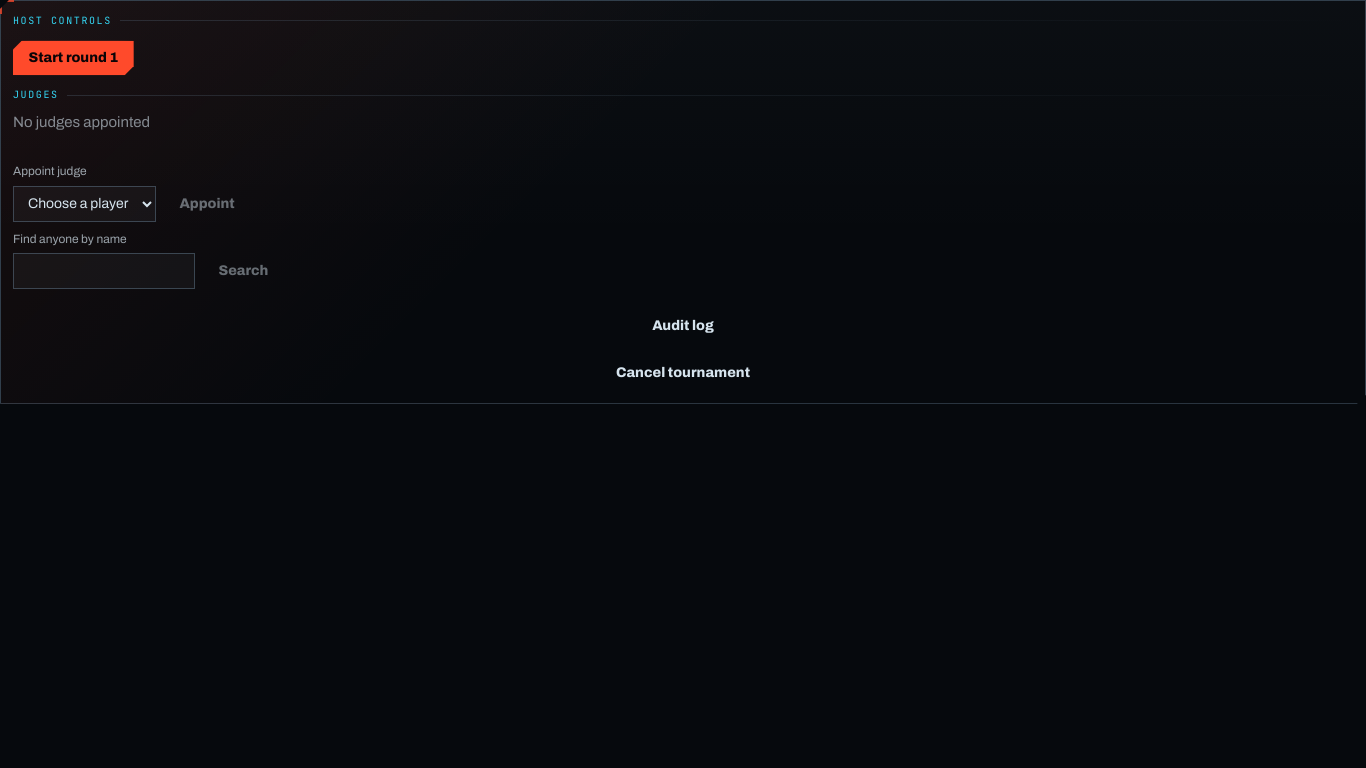
Scenario: preview dialog behaviour › moves focus in, closes on Escape and restores focus
Click the button "Start round 1" at (73, 58), box [13, 40, 134, 75]
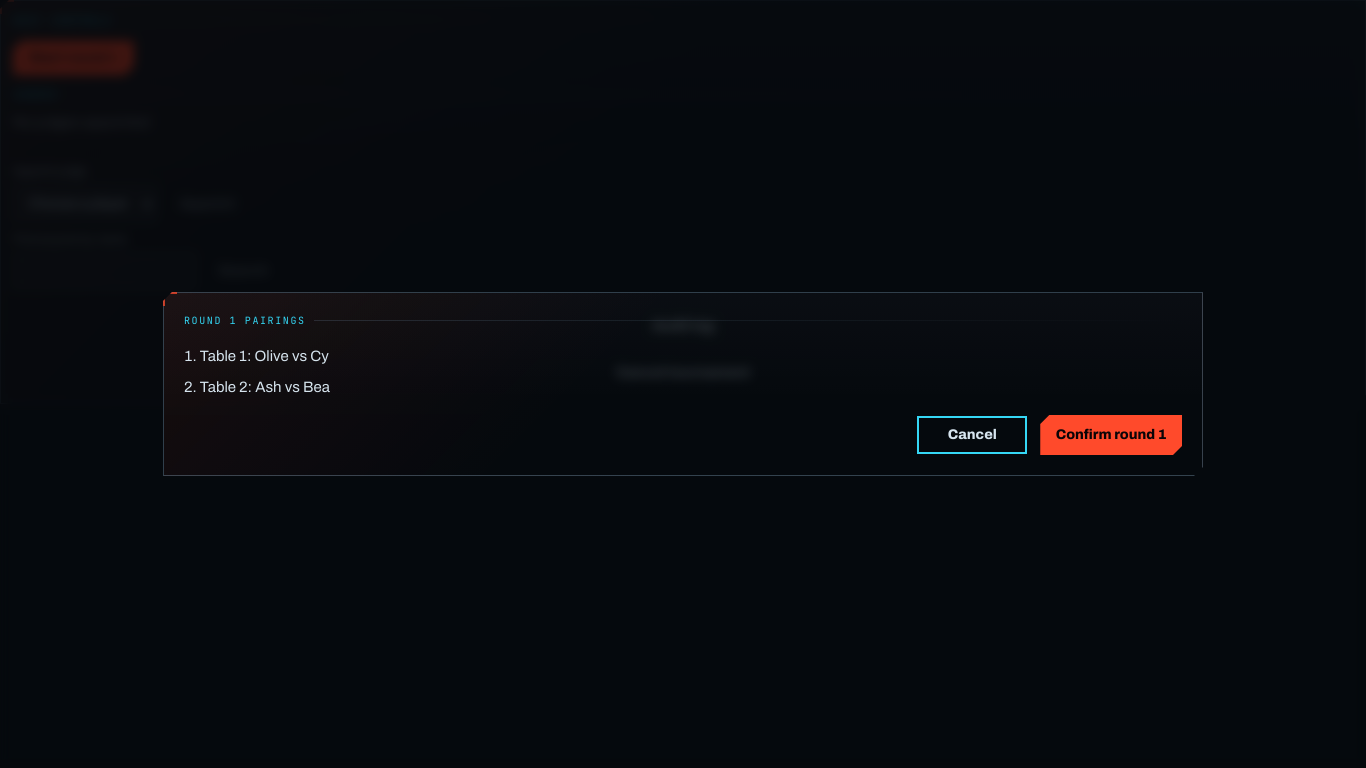
Press Escape
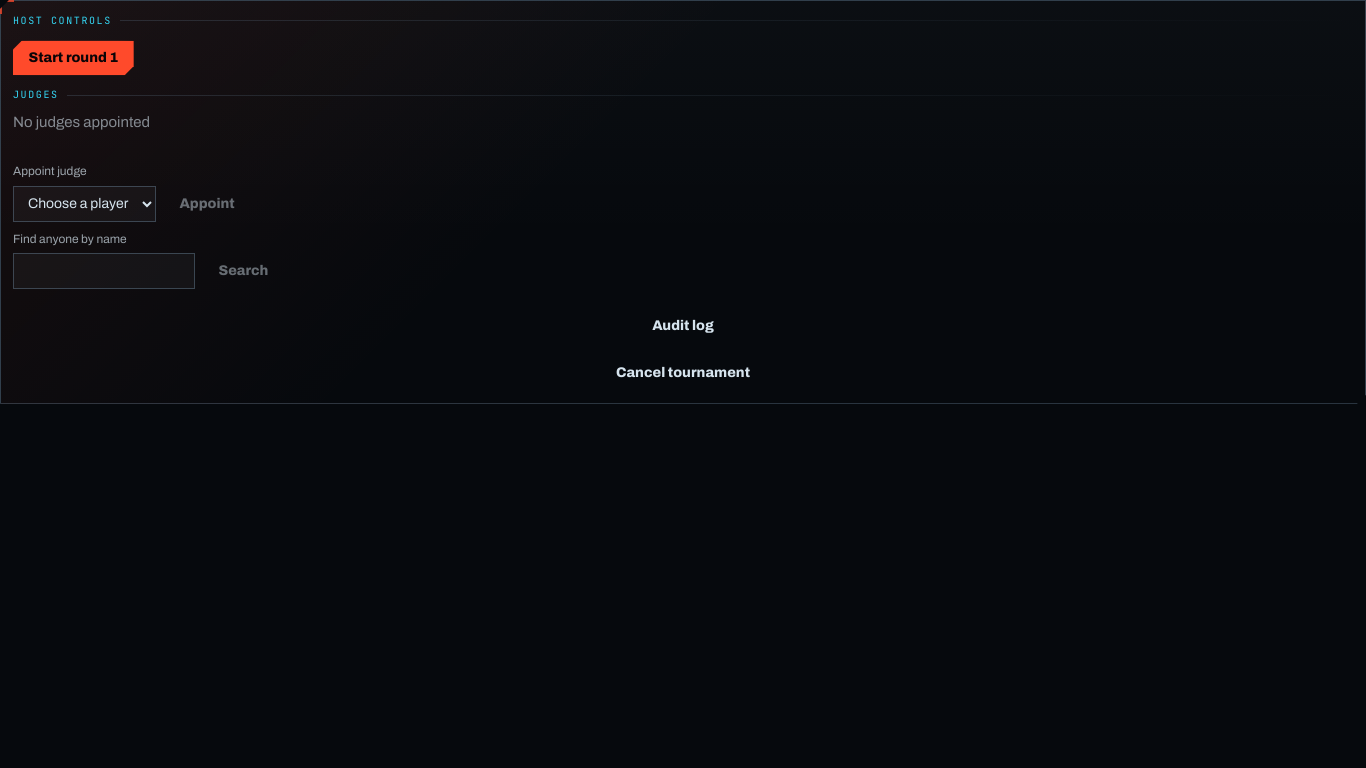
Now the dialog is gone
